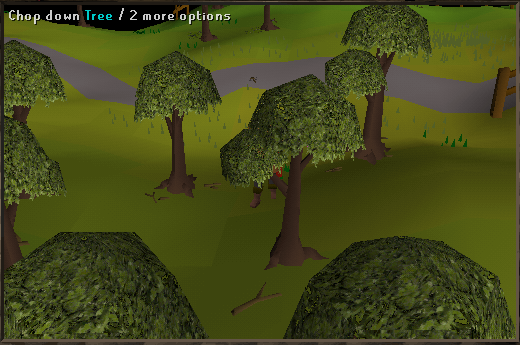Tree: (229, 80, 343, 268), (336, 0, 435, 172), (133, 43, 220, 205)
